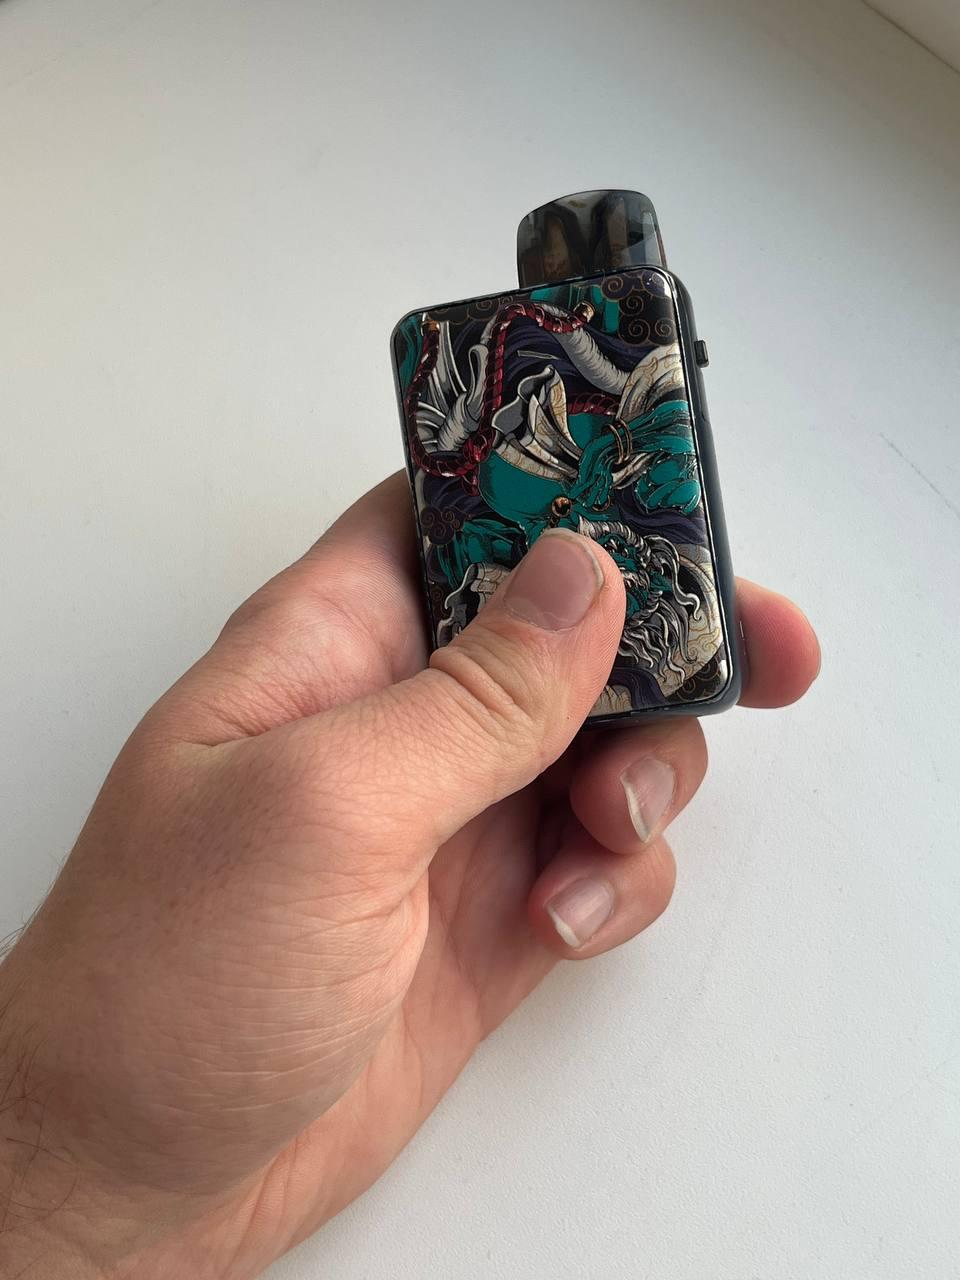Vape: (391, 191, 739, 727)
